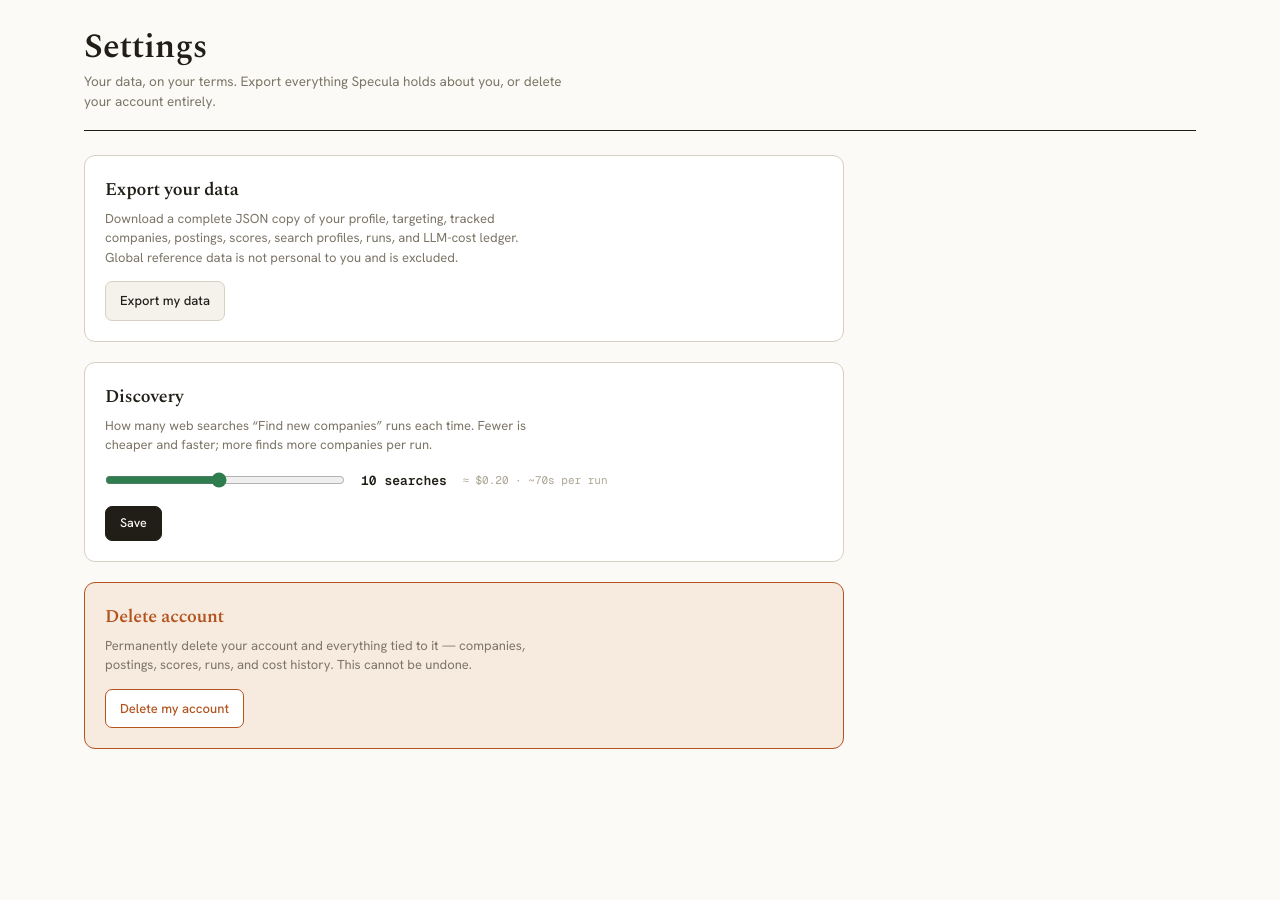
Test: SettingsView › cancelling the confirm returns to the idle state
Click the button "Delete my account" at (174, 709), box [105,689,244,728]
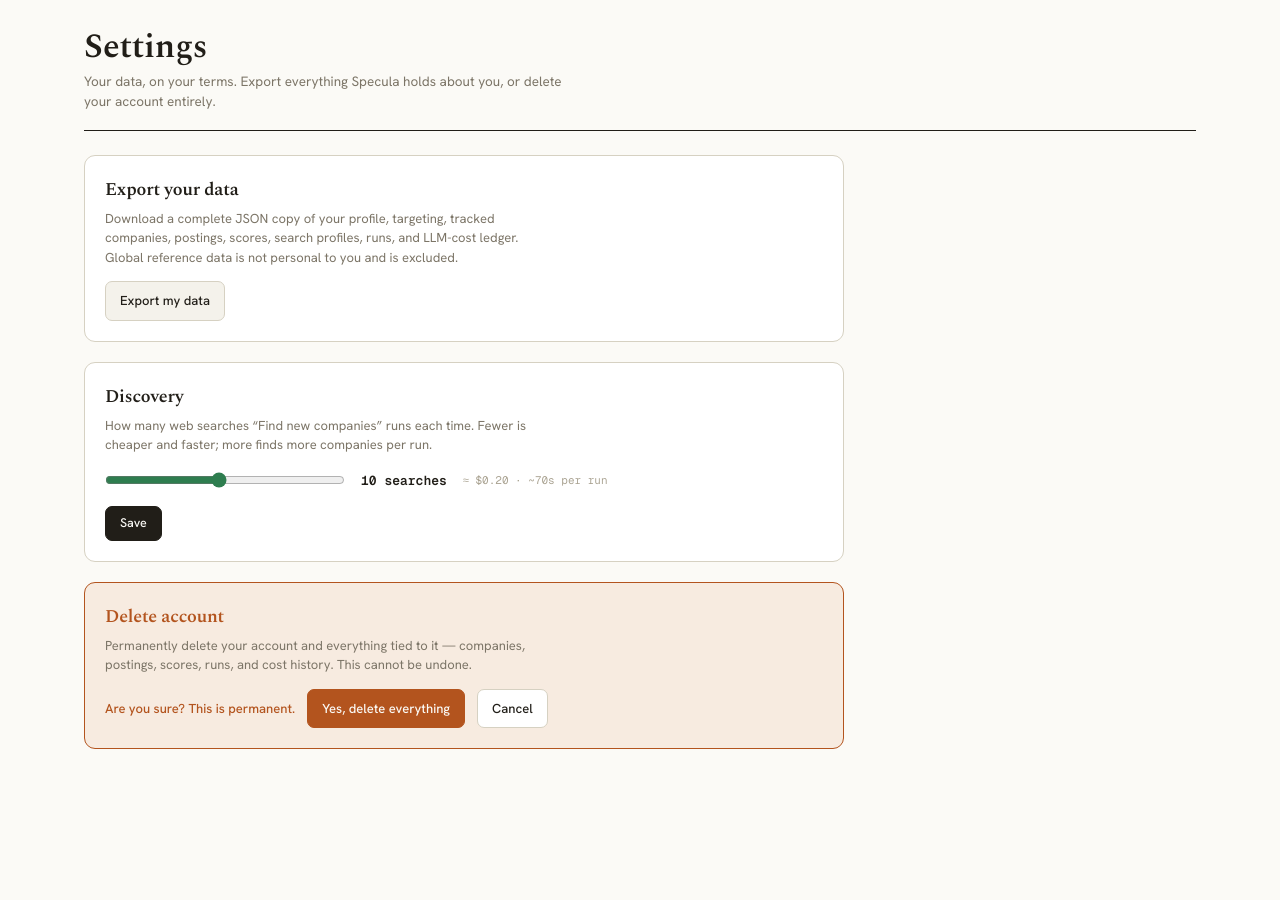
Click the button "Cancel" at (512, 709), box [477,689,548,728]
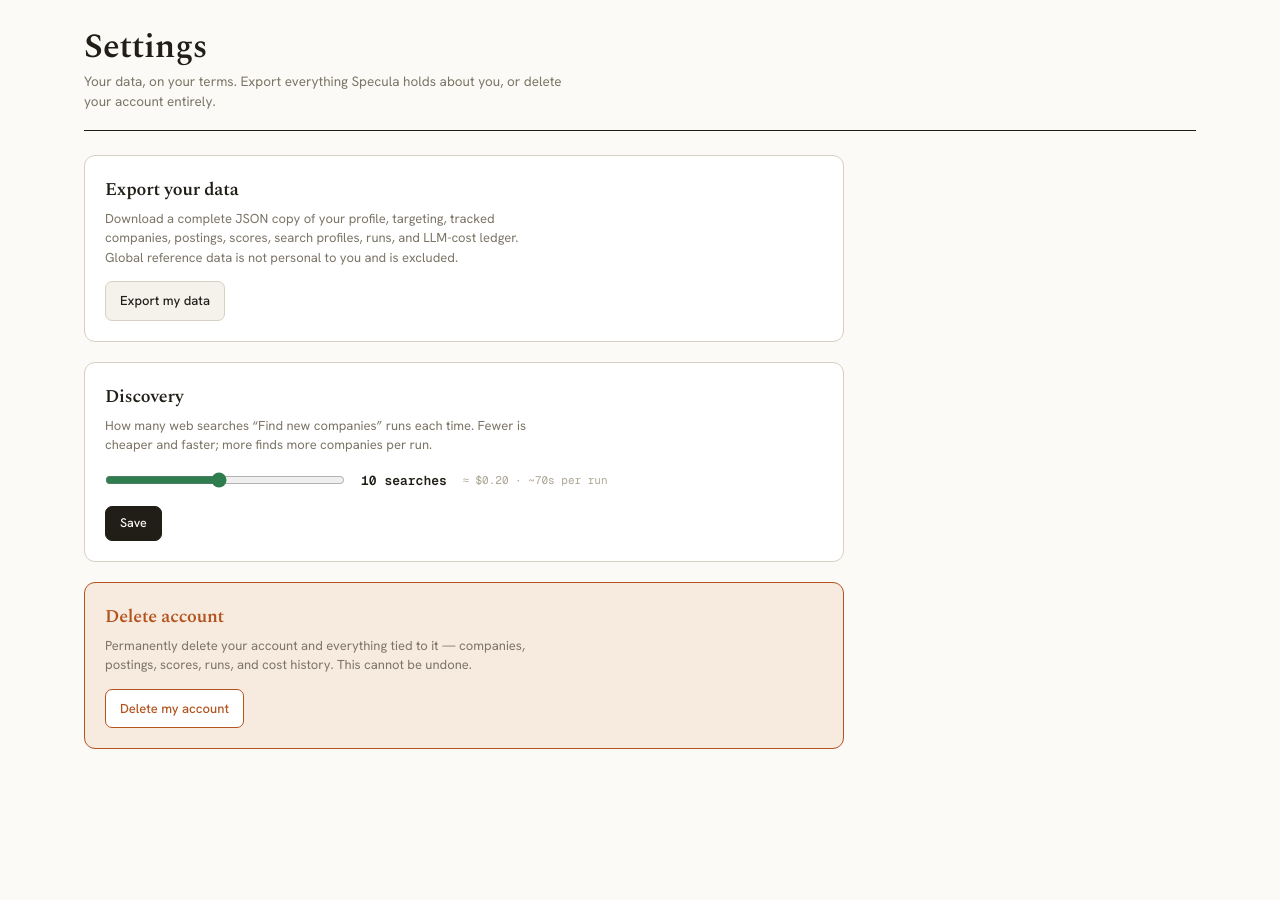
Now the button "Delete my account" is shown, box [105,689,244,728]
